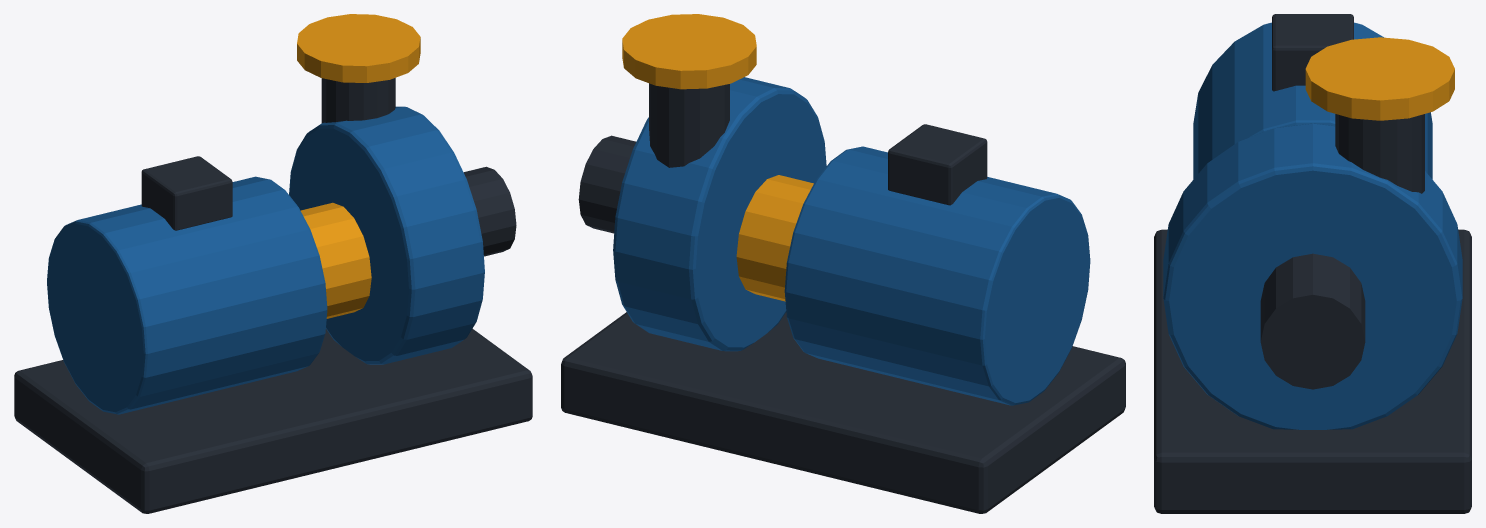
File: centrifugal_pump.glb
The picture shows the model from 3 angles, left to right: view 1: azimuth 30°, elevation 25°; view 2: azimuth 150°, elevation 25°; view 3: azimuth 270°, elevation 25°; orthographic projection. The views are drawn at different scales.
Visible parts, largest first — view 1: PP_Skid, PP_Motor, PP_Volute, PP_DischargeFlange, PP_TerminalBox, PP_CouplingGuard, PP_SuctionNozzle, PP_DischargePipe; view 2: PP_Skid, PP_Motor, PP_Volute, PP_DischargeFlange, PP_TerminalBox, PP_CouplingGuard, PP_DischargePipe, PP_SuctionNozzle; view 3: PP_Volute, PP_Skid, PP_SuctionNozzle, PP_Motor, PP_DischargeFlange, PP_DischargePipe, PP_TerminalBox.
Boxes of the visible parts, left/top/right/bottom form: PP_Skid: left=14, top=328, right=532, bottom=513; PP_Motor: left=47, top=176, right=327, bottom=414; PP_Volute: left=289, top=106, right=484, bottom=364; PP_DischargeFlange: left=297, top=14, right=420, bottom=82; PP_TerminalBox: left=141, top=156, right=232, bottom=230; PP_CouplingGuard: left=301, top=202, right=371, bottom=318; PP_SuctionNozzle: left=463, top=166, right=516, bottom=256; PP_DischargePipe: left=321, top=78, right=395, bottom=122; PP_Skid: left=561, top=312, right=1125, bottom=513; PP_Motor: left=784, top=146, right=1090, bottom=405; PP_Volute: left=613, top=77, right=826, bottom=351; PP_DischargeFlange: left=622, top=14, right=756, bottom=89; PP_TerminalBox: left=888, top=124, right=987, bottom=205; PP_CouplingGuard: left=736, top=175, right=813, bottom=301; PP_DischargePipe: left=649, top=83, right=729, bottom=167; PP_SuctionNozzle: left=578, top=135, right=635, bottom=233; PP_Volute: left=1163, top=123, right=1462, bottom=429; PP_Skid: left=1154, top=229, right=1471, bottom=513; PP_SuctionNozzle: left=1260, top=253, right=1365, bottom=389; PP_Motor: left=1193, top=22, right=1432, bottom=179; PP_DischargeFlange: left=1305, top=37, right=1454, bottom=120; PP_DischargePipe: left=1335, top=114, right=1424, bottom=193; PP_TerminalBox: left=1272, top=14, right=1353, bottom=91.
Size of the model in its own units: 1.55 by 1.18 by 0.85.
